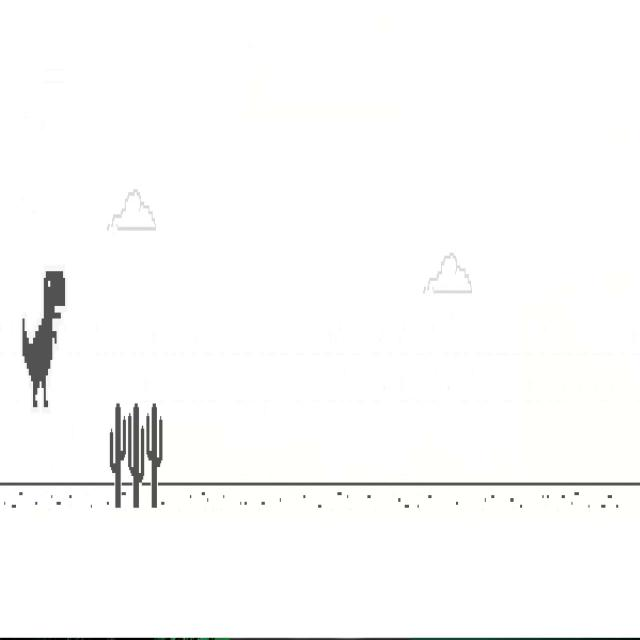cacto: (109, 401, 127, 509), (127, 401, 145, 509), (146, 401, 163, 510)
dino: (22, 268, 66, 410)
